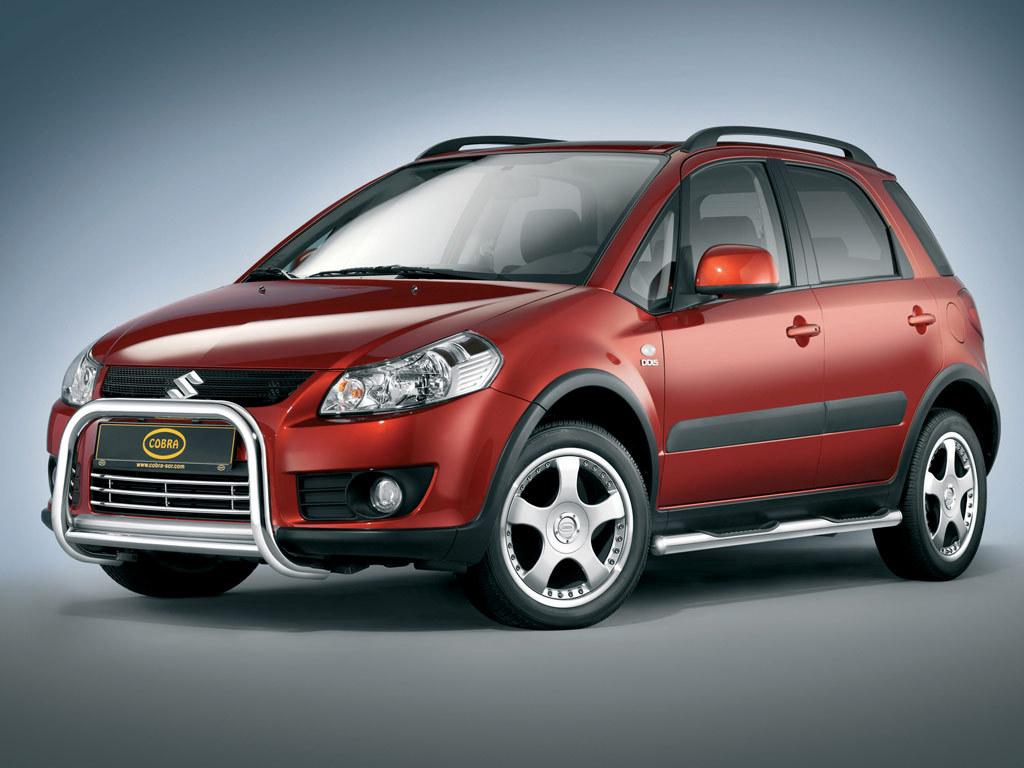suzuki: (159, 369, 207, 411)
